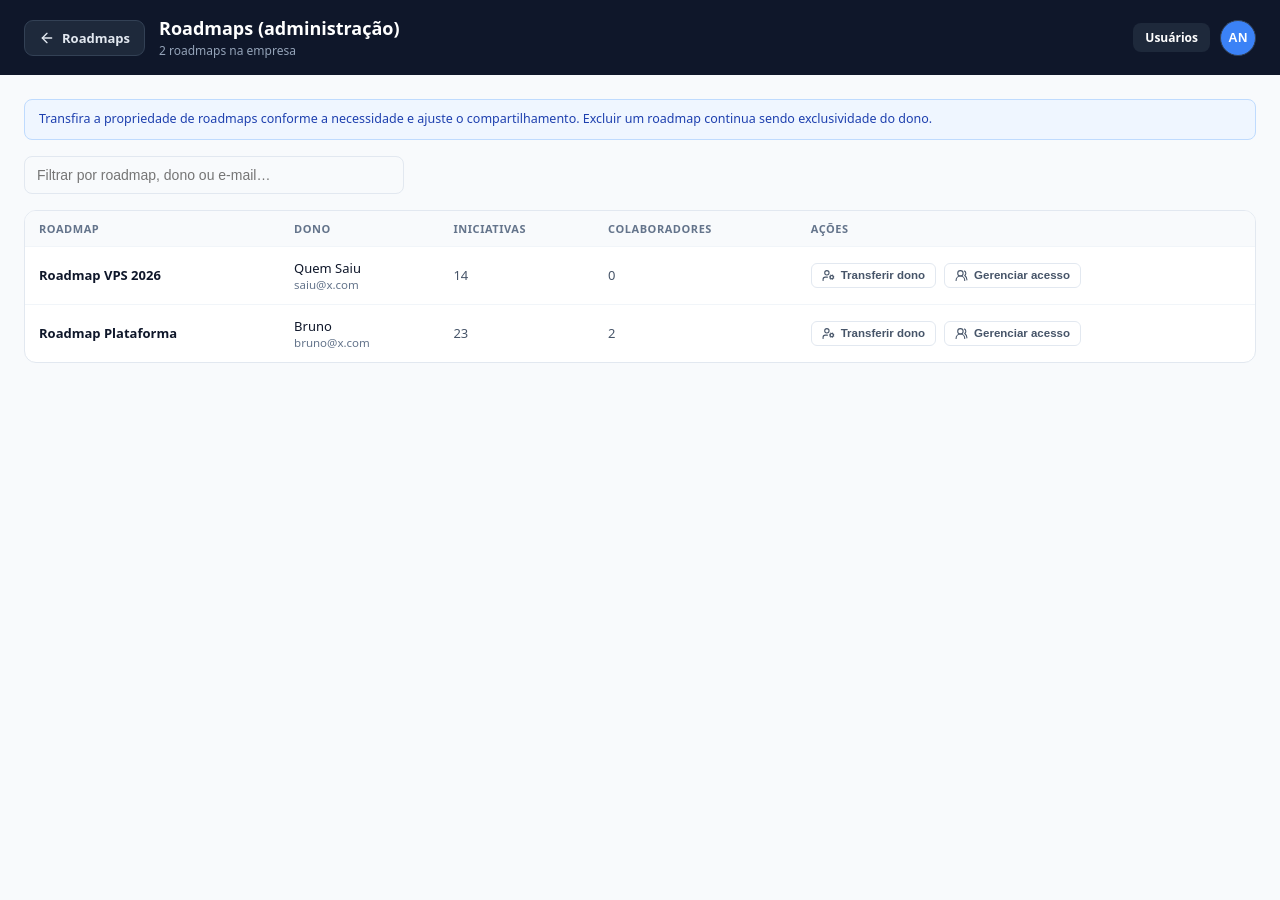
Test: AdminRoadmaps › exige escolher o novo dono antes de transferir
Expected: the text "Roadmap VPS 2026" is shown, [39,266,161,284]
Click the button "Transferir dono" in the row of "Roadmap VPS 2026": click(873, 275) [811,263,936,288]
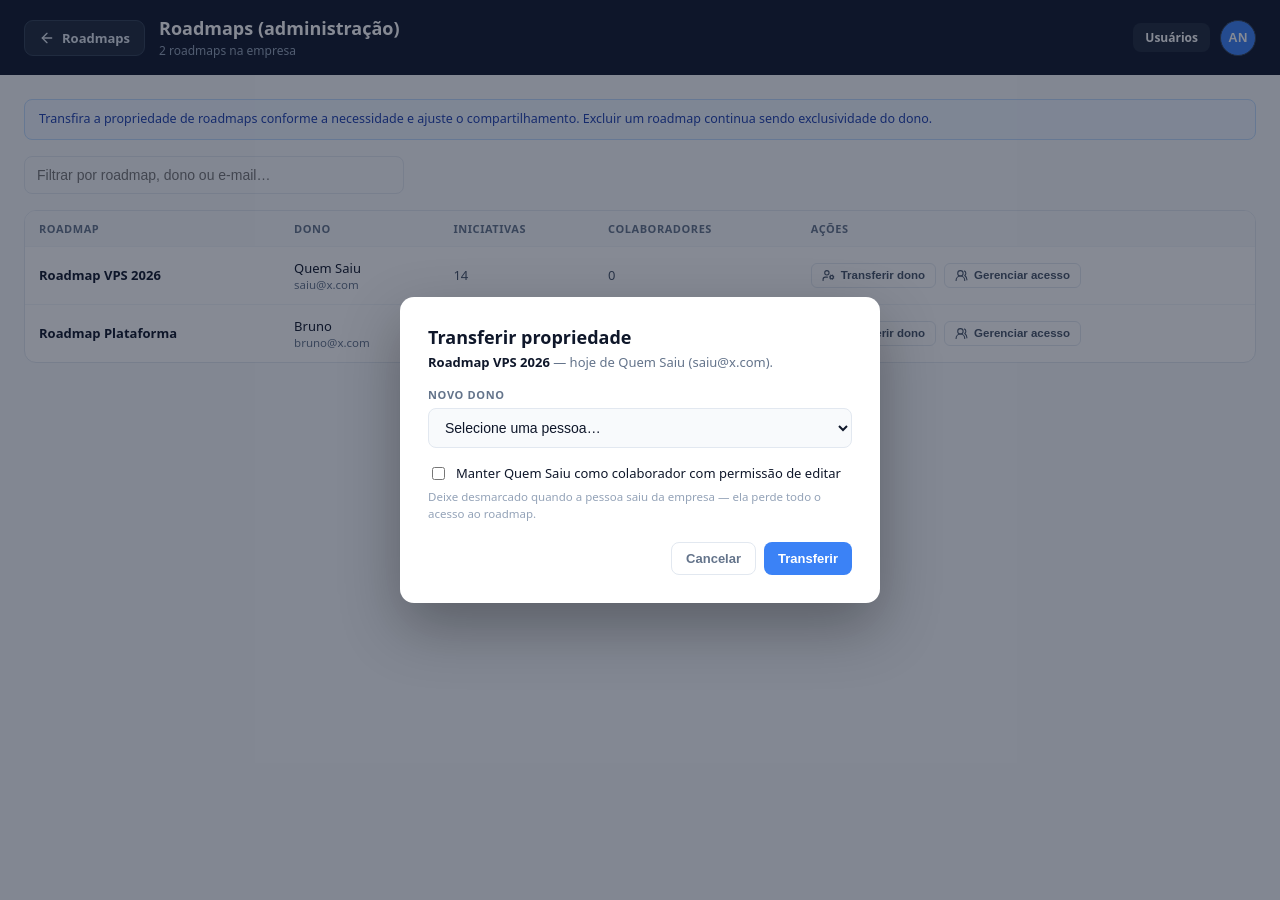
Click the button "Transferir": click(808, 559) [764,542,852,575]
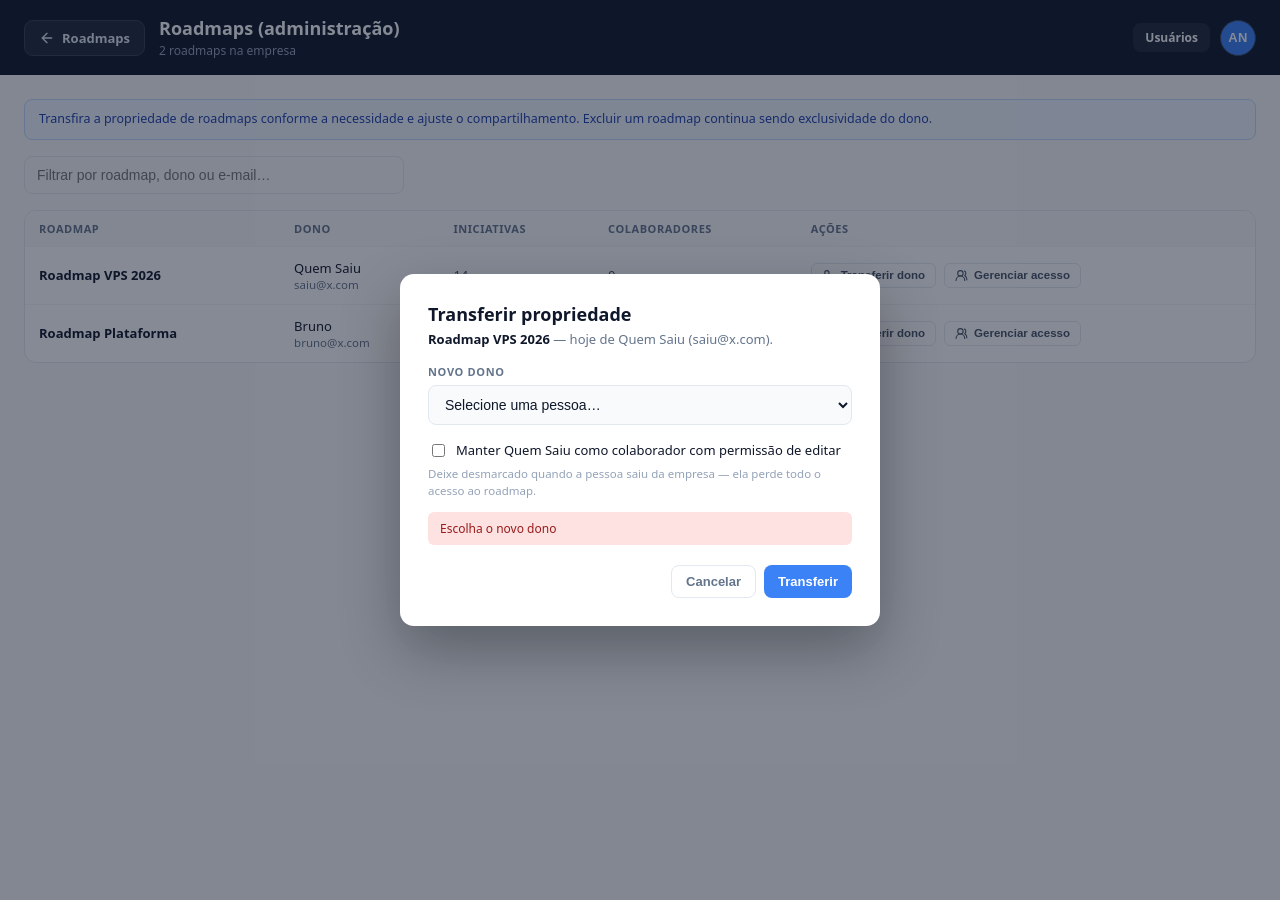
Expected: the text "Escolha o novo dono" is shown, [428,512,852,545]
